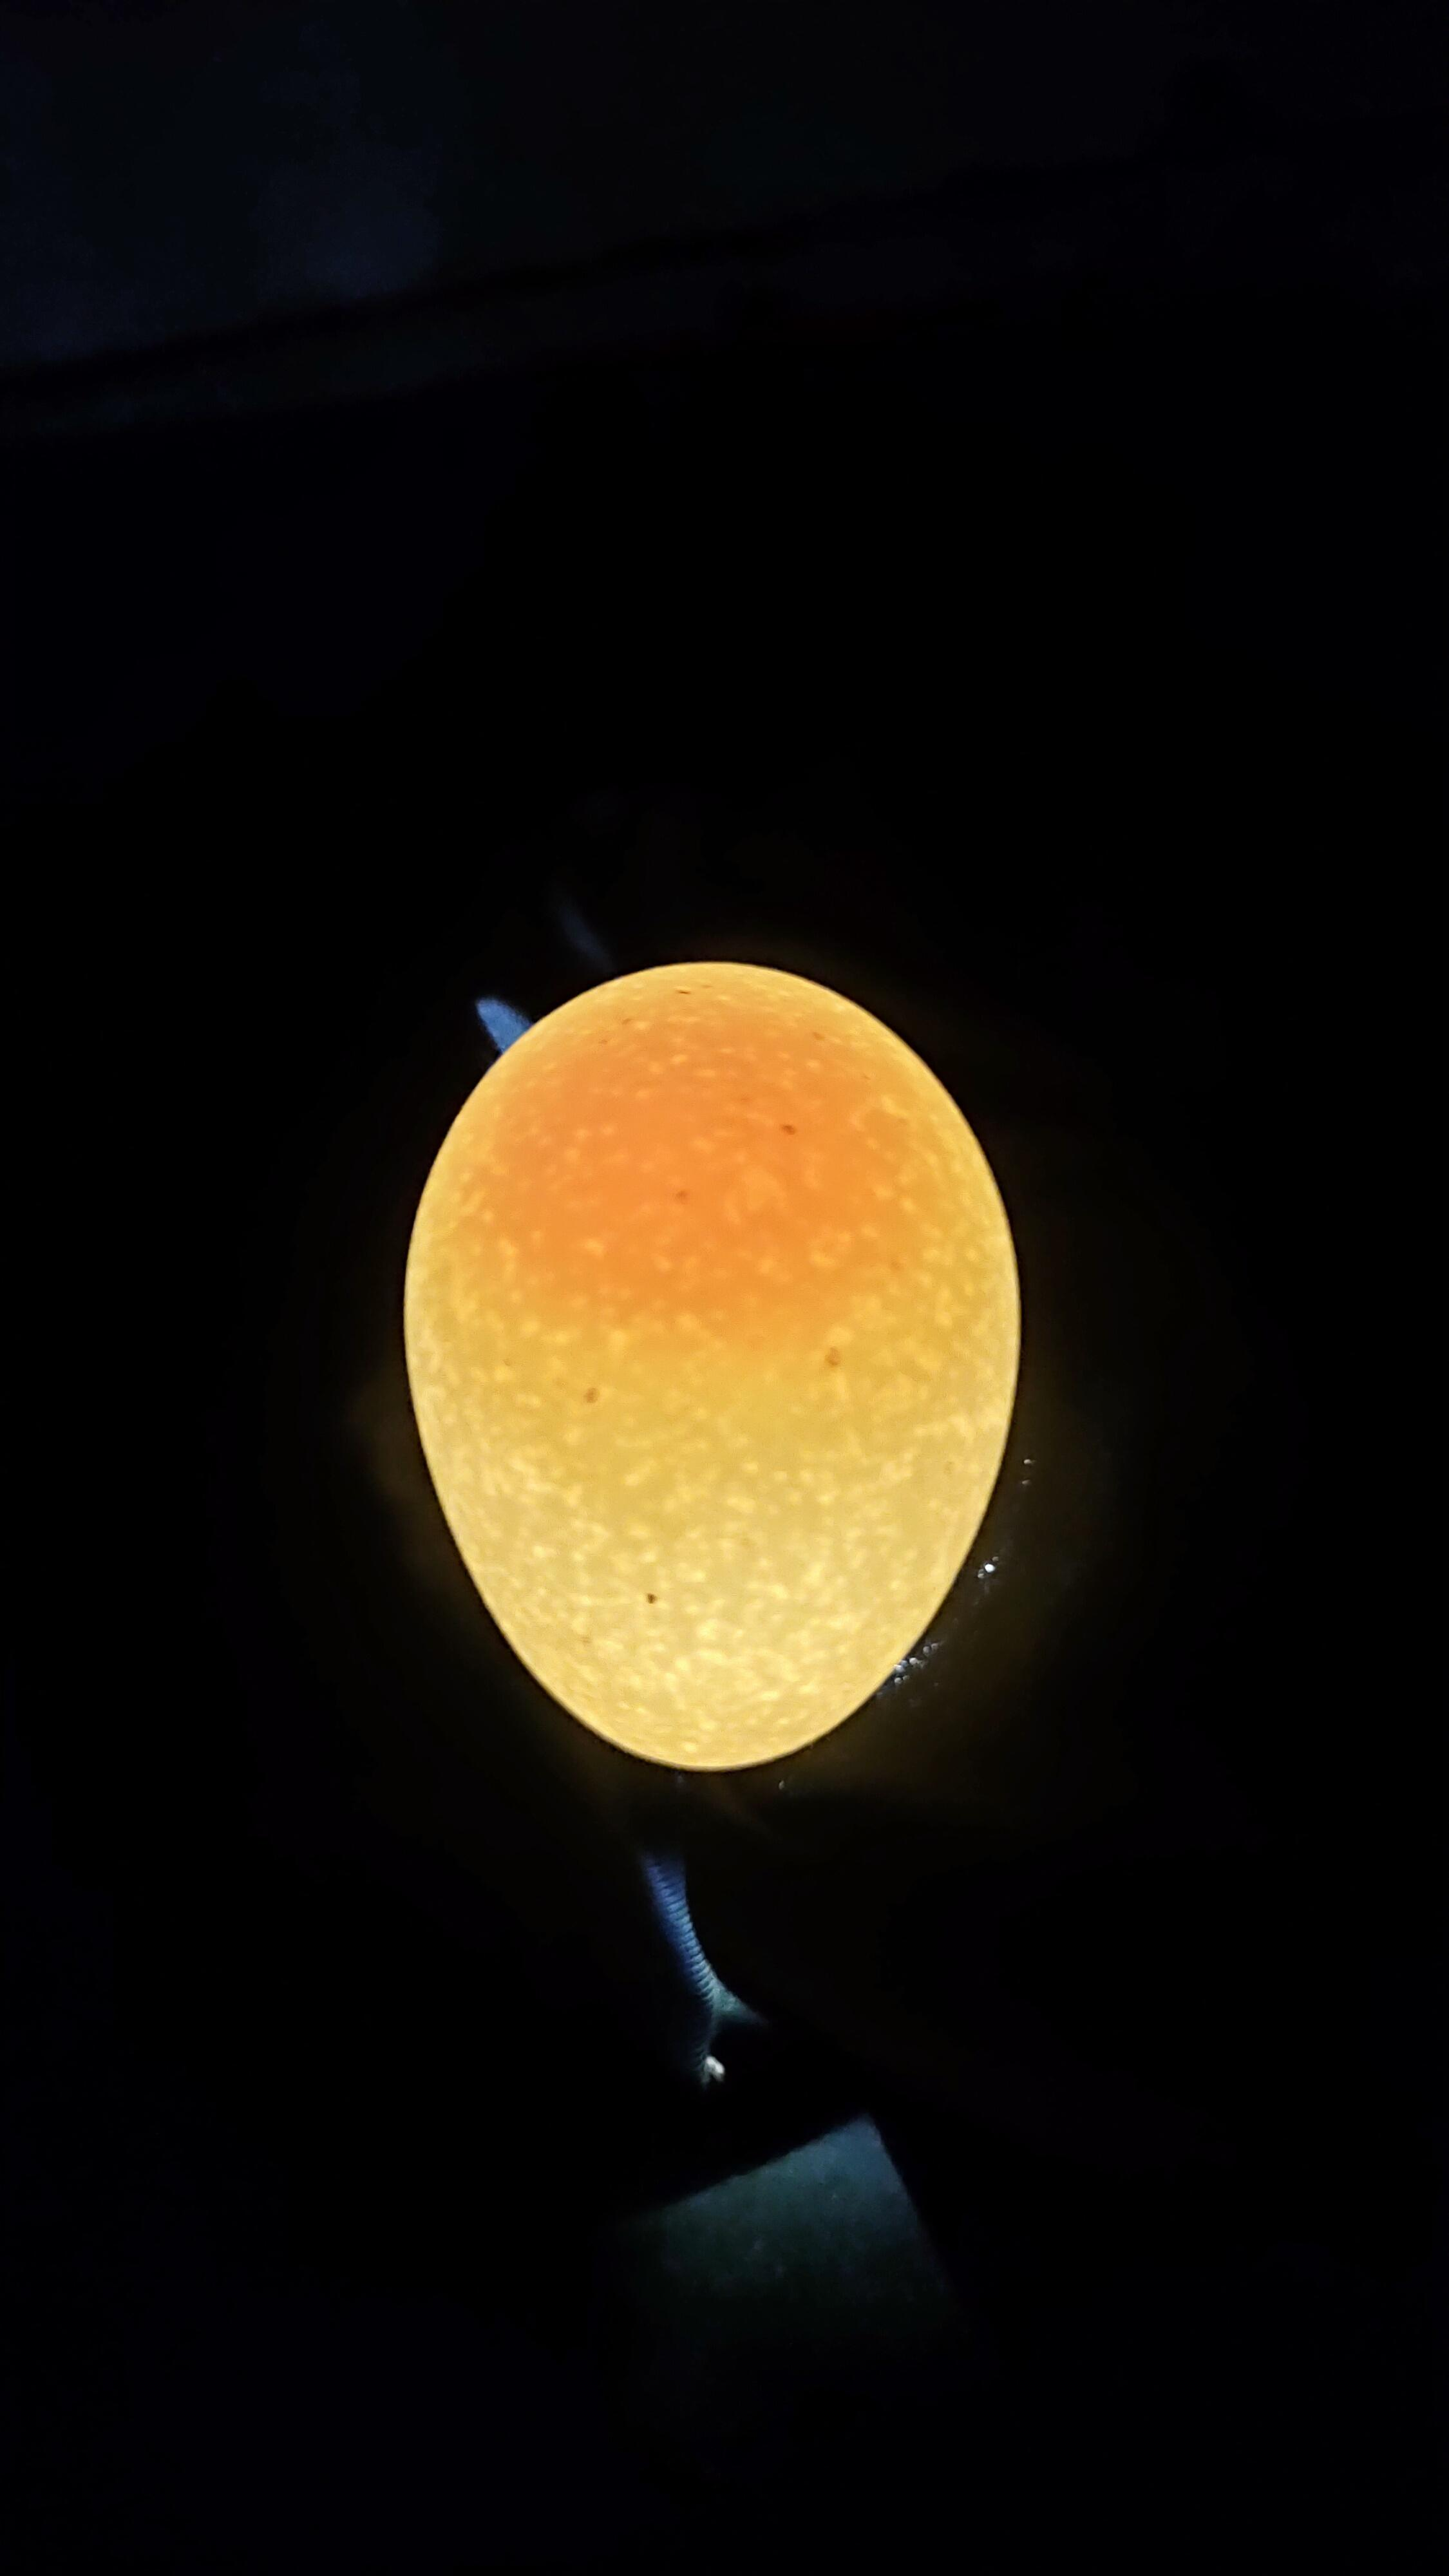Inedible: (373, 959, 1037, 1829)
